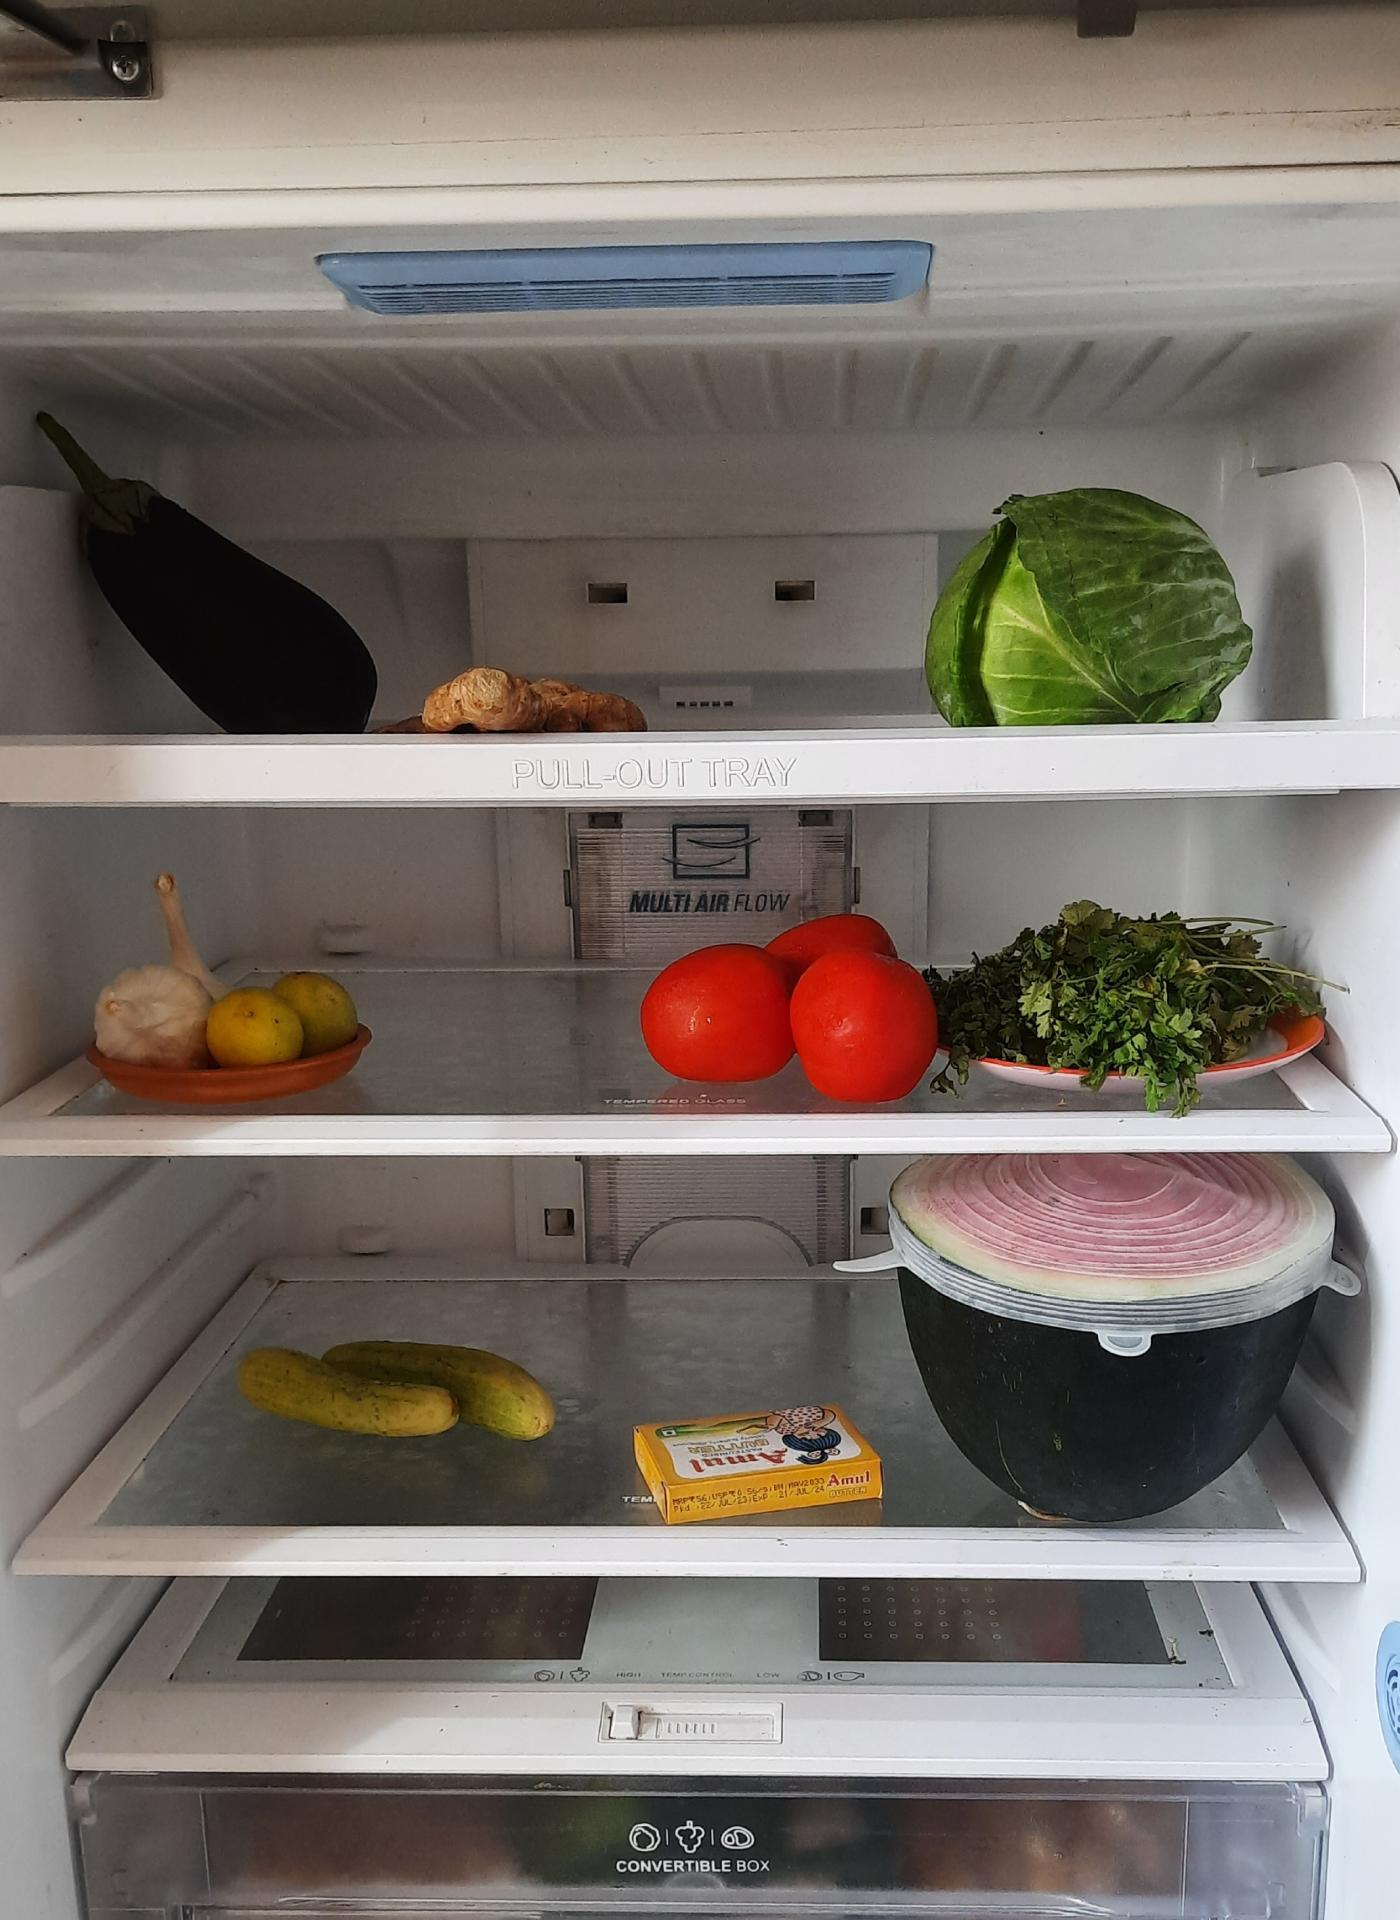brinjal: (19, 353, 386, 736)
butter: (635, 1398, 895, 1523)
cabbage: (926, 486, 1255, 727)
coriander: (942, 897, 1322, 1090)
cucumber: (240, 1333, 564, 1452)
garlic: (98, 859, 227, 1069)
ginger: (409, 650, 666, 747)
lemon: (207, 966, 365, 1067)
tomato: (638, 912, 935, 1106)
watermelon: (881, 1146, 1346, 1516)
